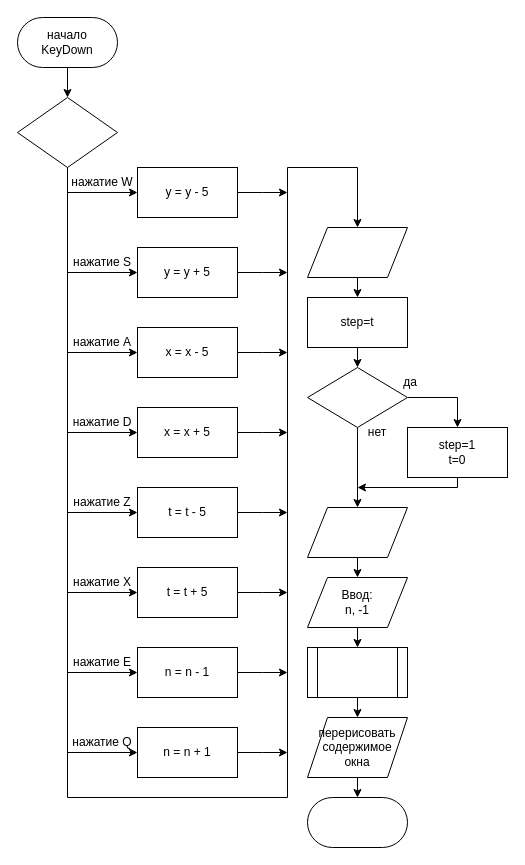
This 525x865 diagram has some shape labels left out. The centre of each missing label's shape, as x and y in pixels:
"Fractal" goes at [357,672].
"step ≤ 0" goes at [357,397].
"конец" goes at [357,822].
"Оператор выбора key" goes at [67,132].
"очистка экрана" goes at [357,252].
"разместить курсор по позиции x,y" goes at [357,532].
